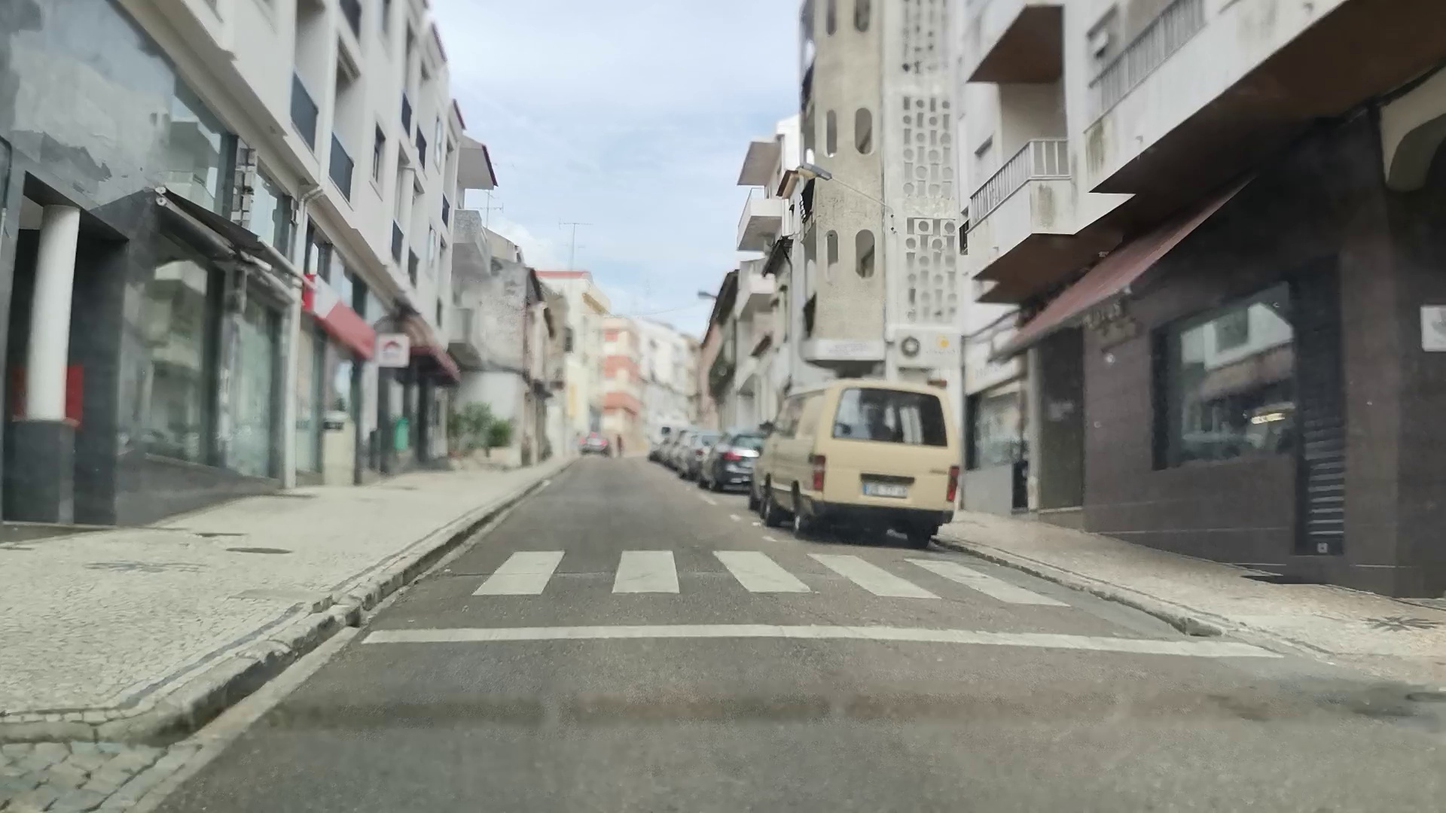Stairs: (474, 546, 1069, 609)
